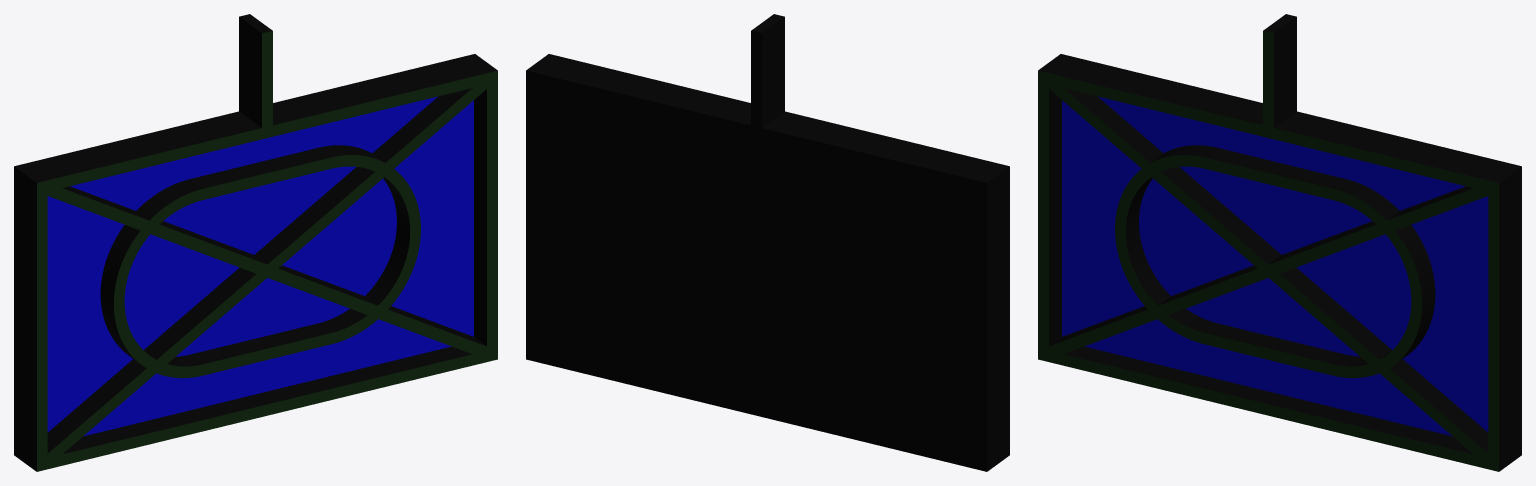
Rendered from ORBAT_-_22.obj.
3 renders of one model, left to right at view 1: azimuth 30°, elevation 25°; view 2: azimuth 150°, elevation 25°; view 3: azimuth 330°, elevation 25°, orthographic.
Parts seen in each view (by area): view 1: SM_ORBAT_-_2_path1763-2.256; view 2: SM_ORBAT_-_2_path1763-2.256; view 3: SM_ORBAT_-_2_path1763-2.256.
Boxes of the visible parts, left/top/right/bottom form: SM_ORBAT_-_2_path1763-2.256: left=14, top=14, right=497, bottom=471; SM_ORBAT_-_2_path1763-2.256: left=526, top=14, right=1009, bottom=471; SM_ORBAT_-_2_path1763-2.256: left=1038, top=14, right=1521, bottom=471.
Bounding box in the file's own units: 1.21 × 0.959 × 0.1034.
